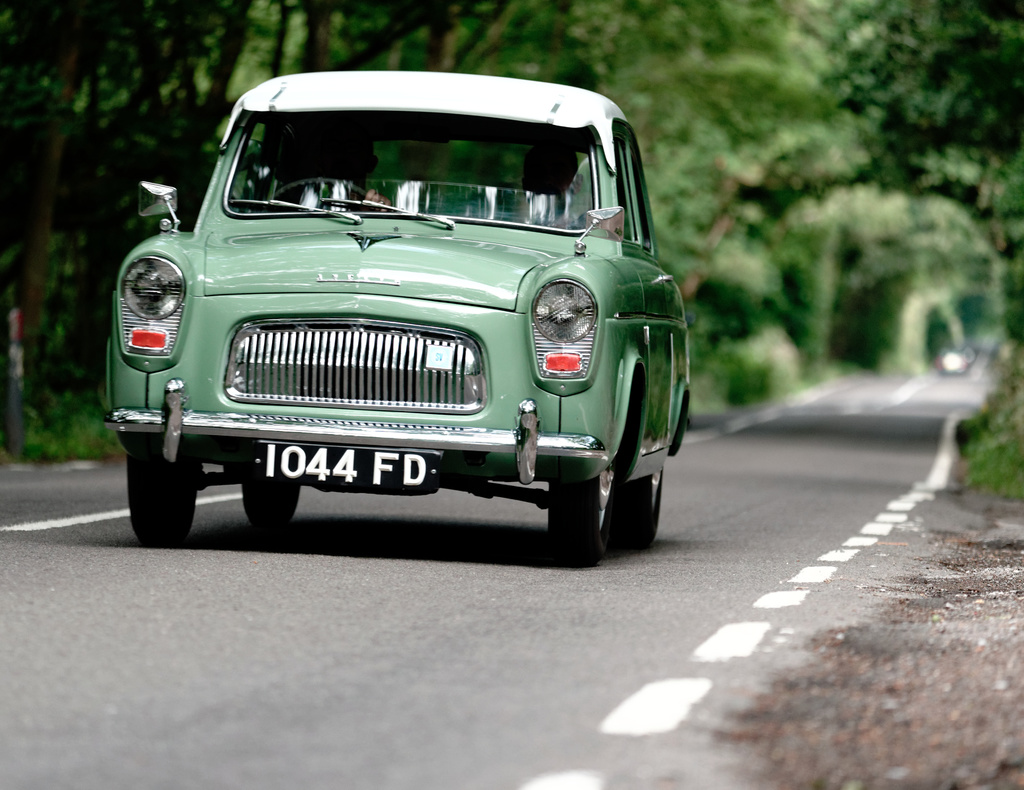Car: (101, 67, 686, 562)
